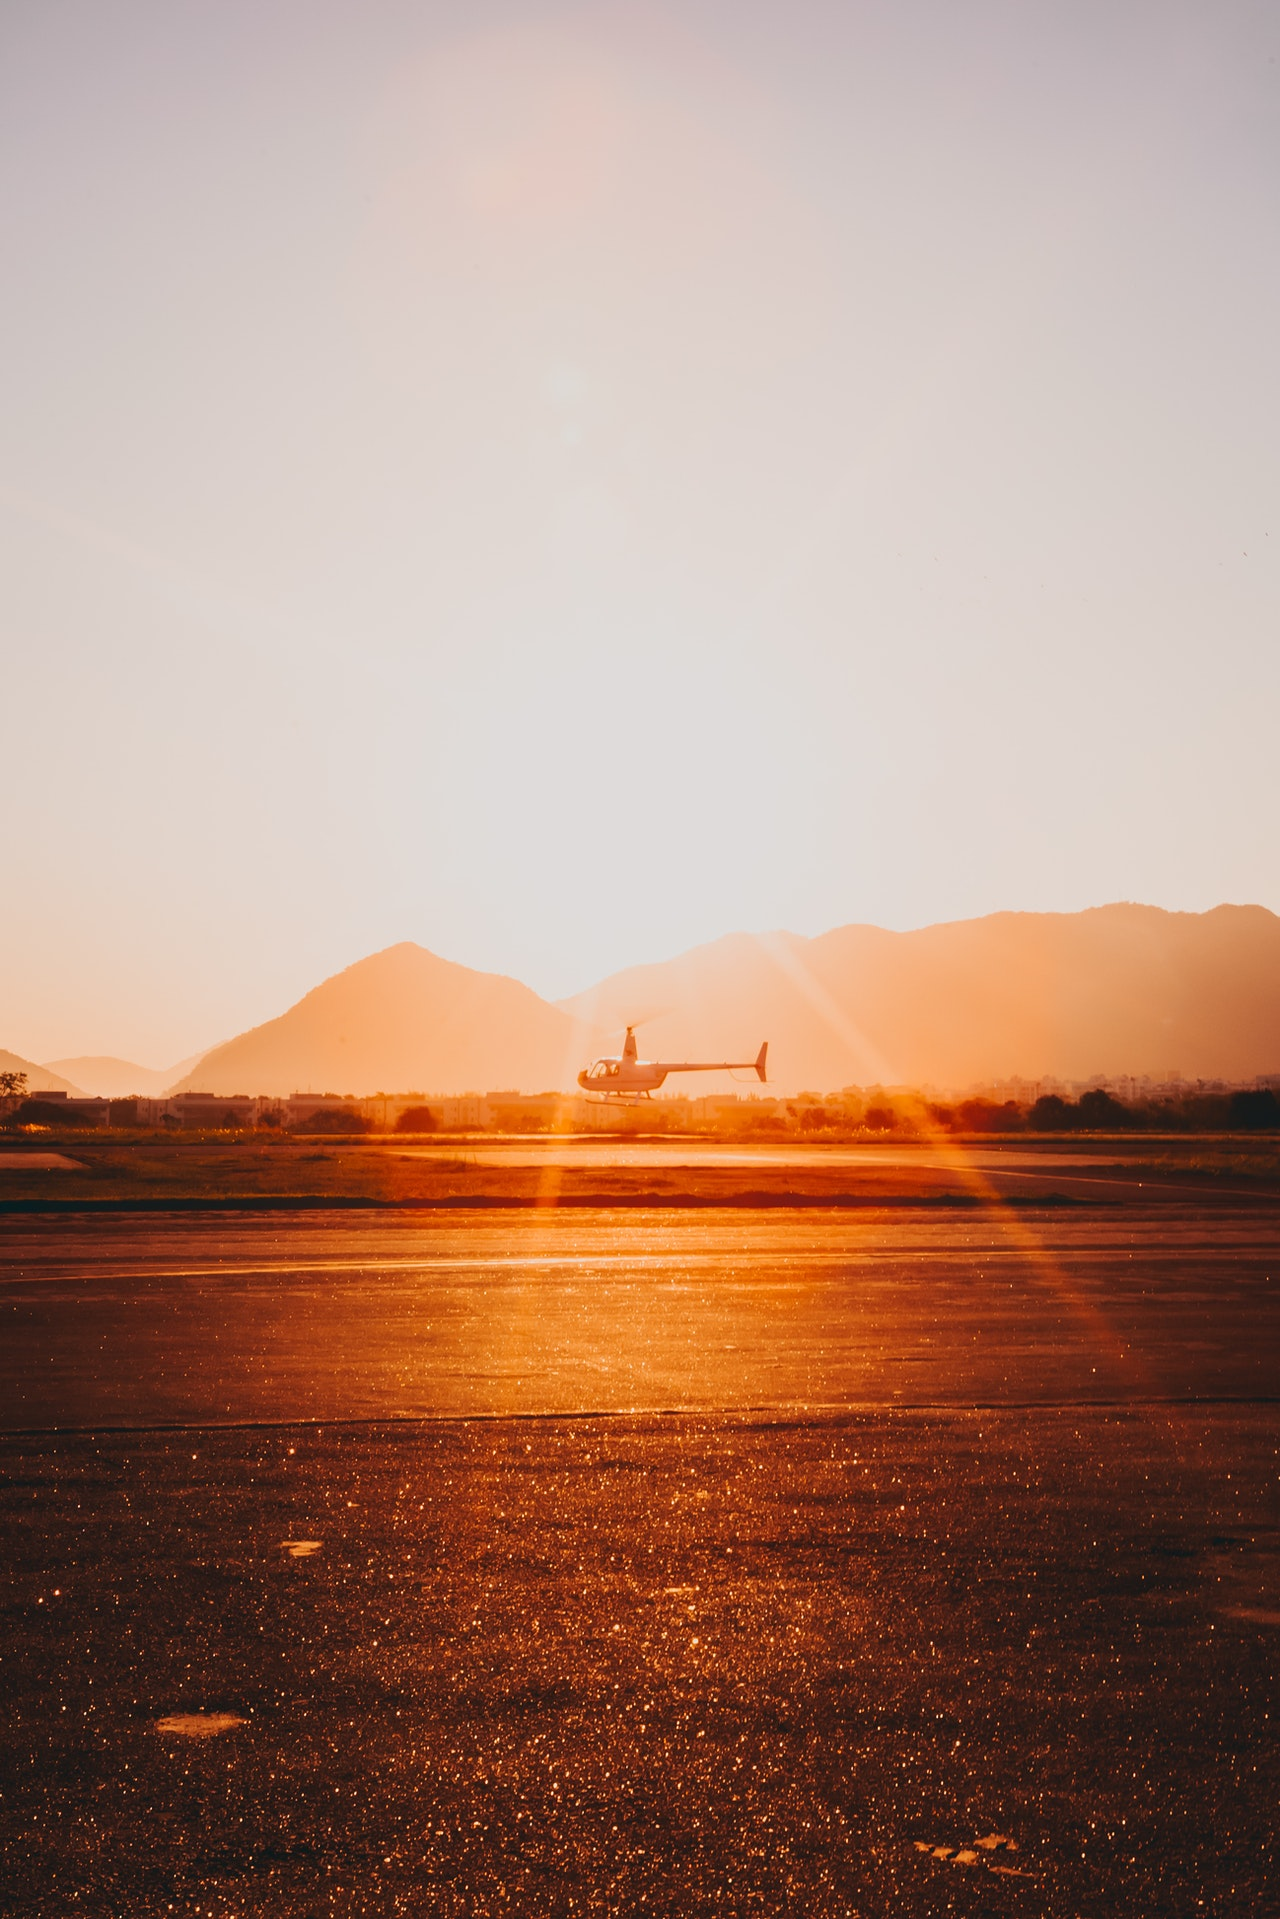heli: (564, 1018, 771, 1101)
